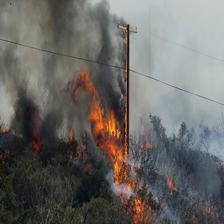fire: (56, 35, 161, 222)
